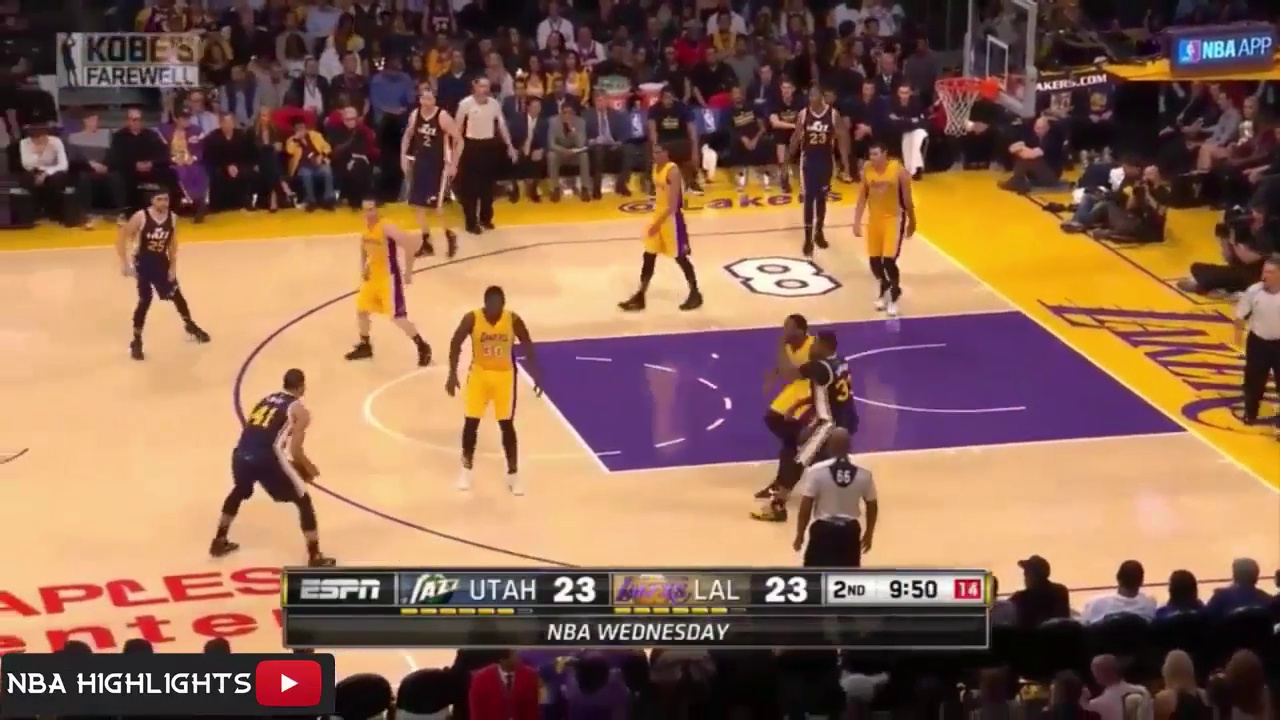jazz: (208, 368, 330, 564), (113, 187, 209, 353), (785, 85, 852, 252), (404, 90, 463, 258), (808, 328, 864, 467)
lakers: (437, 287, 549, 499), (335, 198, 435, 362), (625, 146, 706, 312), (853, 143, 918, 322), (757, 308, 812, 516)
